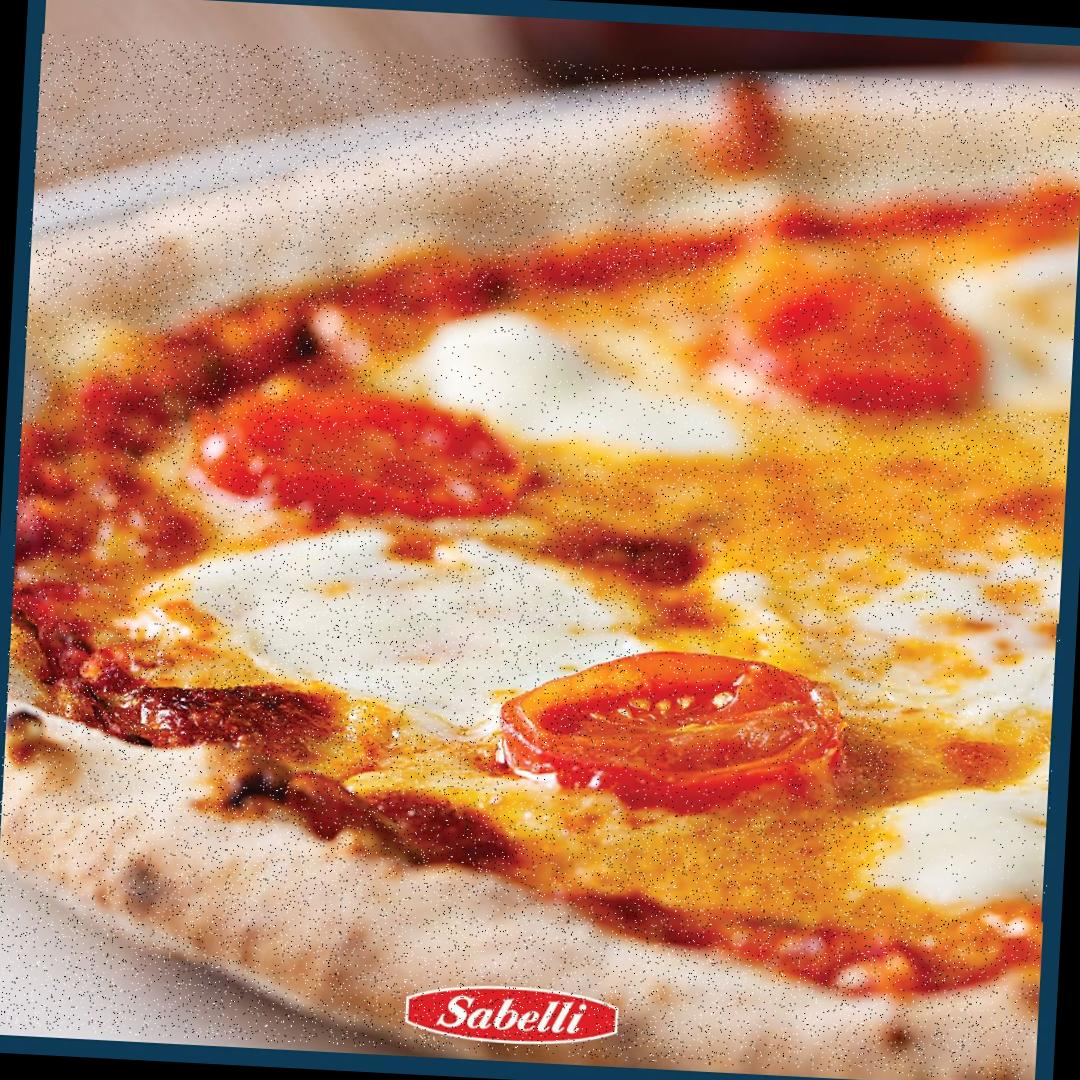Cheese: (162, 514, 642, 758), (405, 305, 748, 472), (882, 616, 1062, 922), (966, 225, 1080, 414)
Pizza: (0, 34, 1080, 1080)
Tomatoes: (495, 633, 841, 823), (195, 374, 522, 514), (726, 254, 992, 415)
